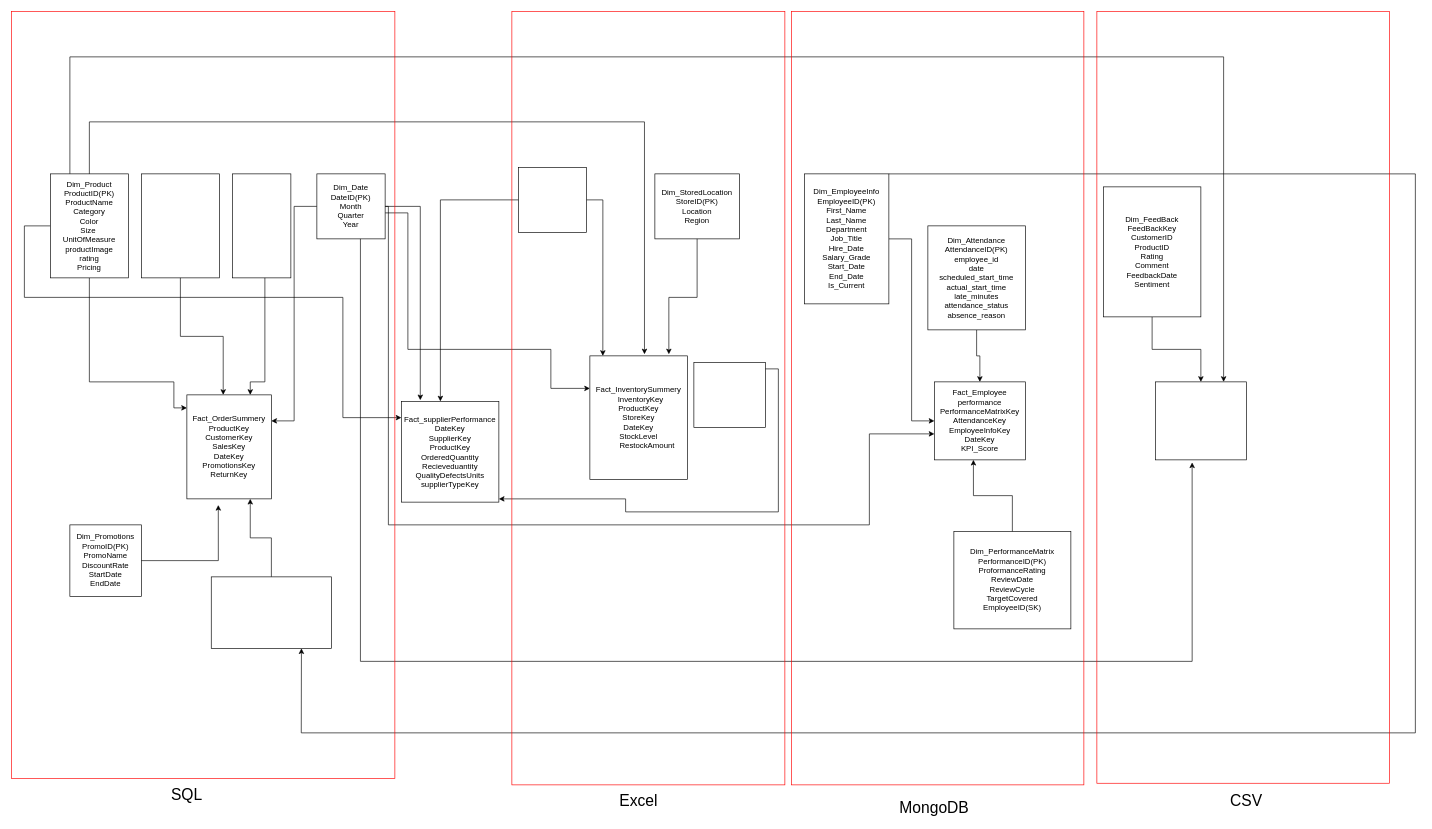
Some shapes in this 1432 by 829 pixel diagram are drawn without their labels. Here are the shapes that lost their labels. From the top down, the centre of each, then its label:
the point at 552,199: Dim_Supplier SupplierID(PK) Name Region
the point at 180,225: Dim_Customer CustomerID(PK) CustomerName Email Phone no. Customer Address
the point at 261,225: Dim_Sales SalesID(PK) units_sold title tags price balance sales index
the point at 729,394: Dim_SupplierType SupplierTypeID(PK) Name
the point at 1200,420: Fact_CusFeedBack FeedBackKey PriductKey DateKey AverageRate
the point at 271,612: Dim_Return ReturnID (PK) Reason ReturnDateKey EmployeeIDKey
